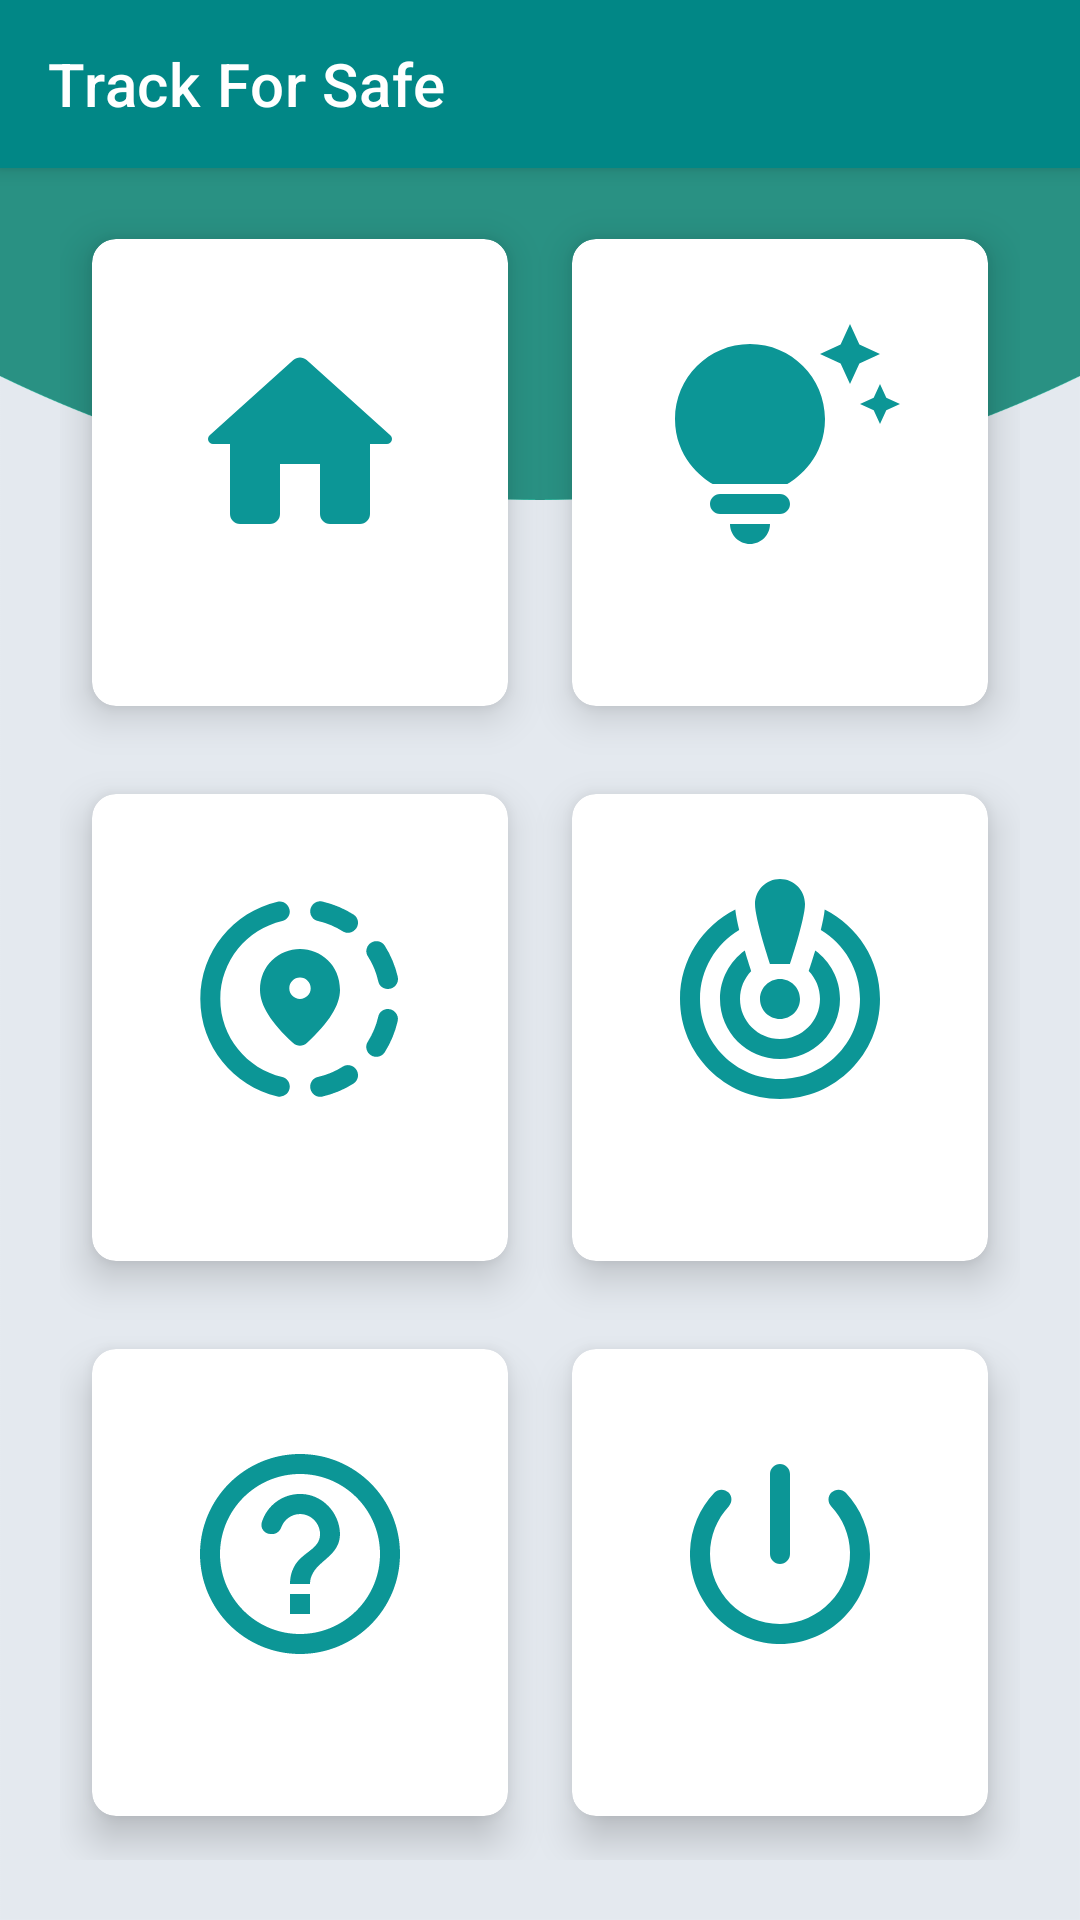

Where to tap for icons on this 1080 × 1920 app screen, as (x,y):
ask help: (300,1554)
home: (300,440)
log out: (780,1554)
sent alert: (780,989)
tips: (787,434)
update location: (299,999)
